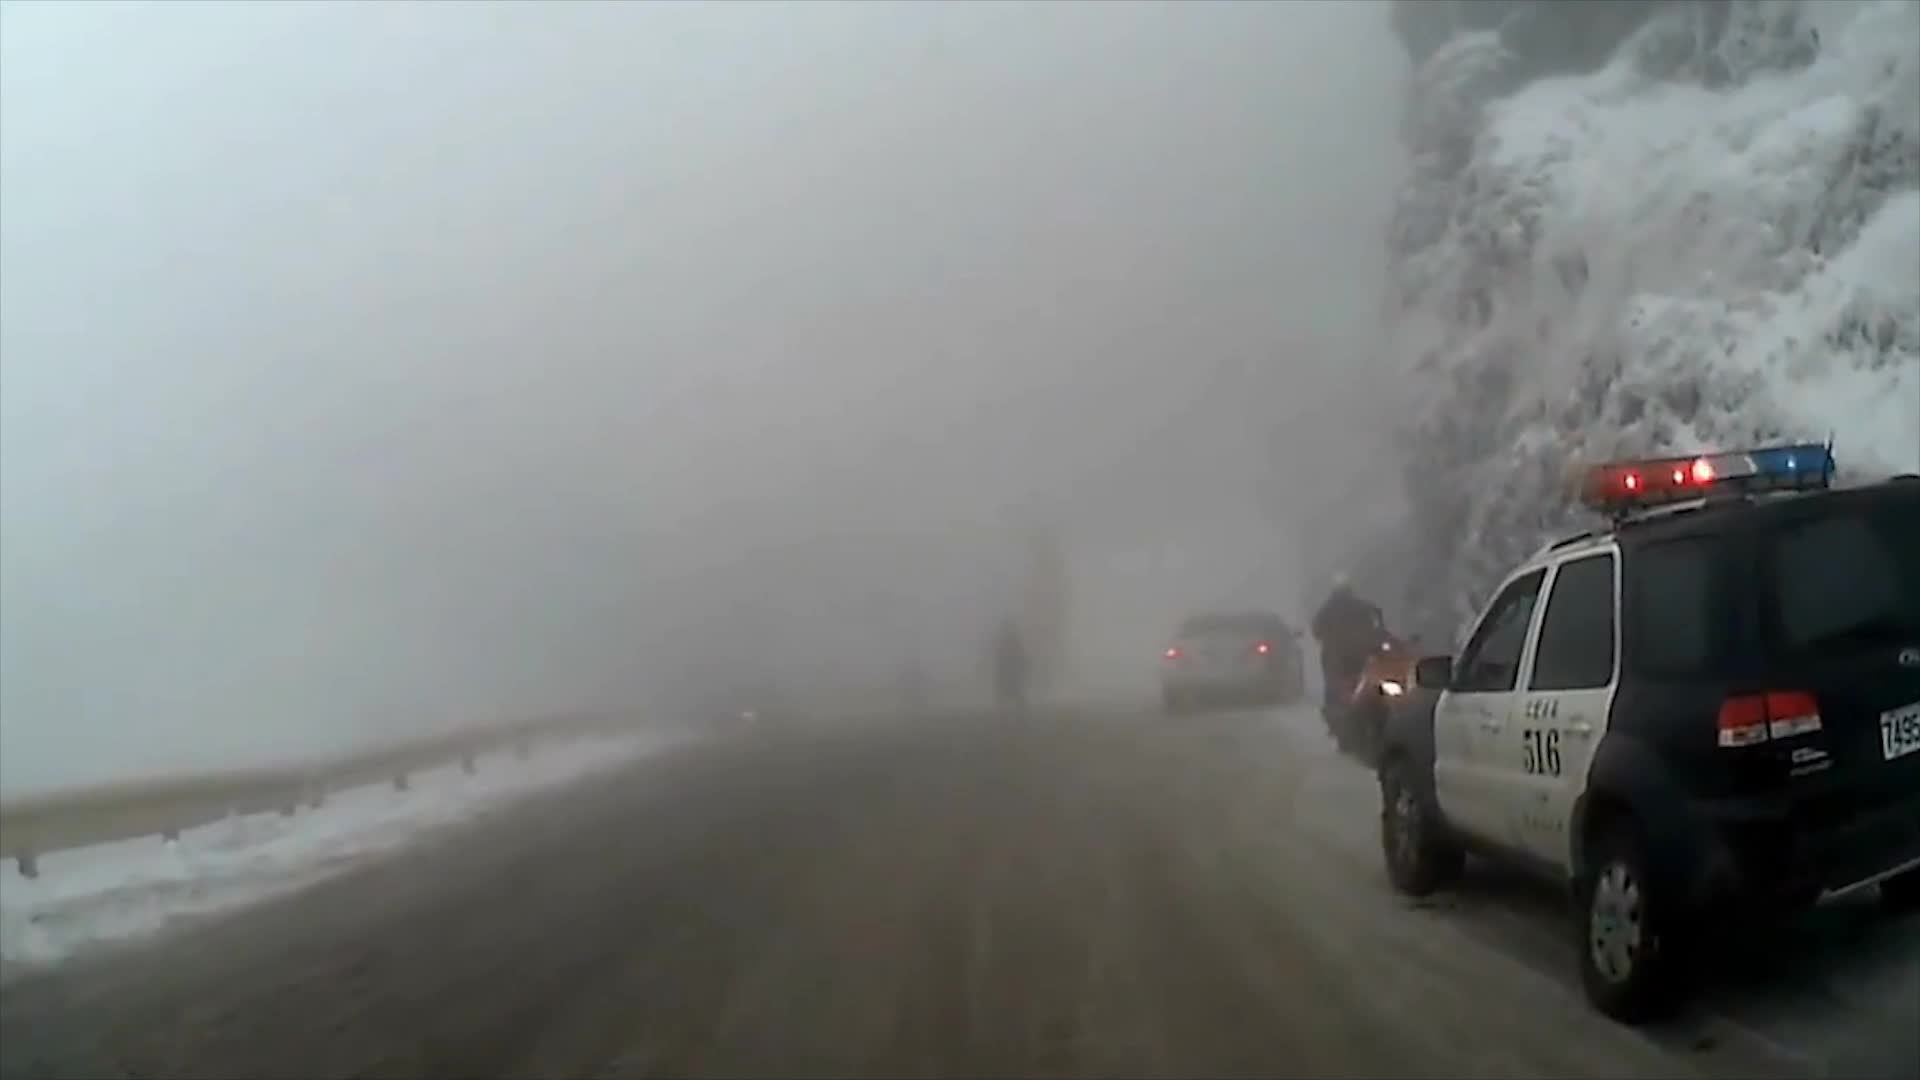pedestrian: (1311, 581, 1387, 748)
vehicle: (1372, 442, 1920, 1030), (1158, 608, 1305, 716)
